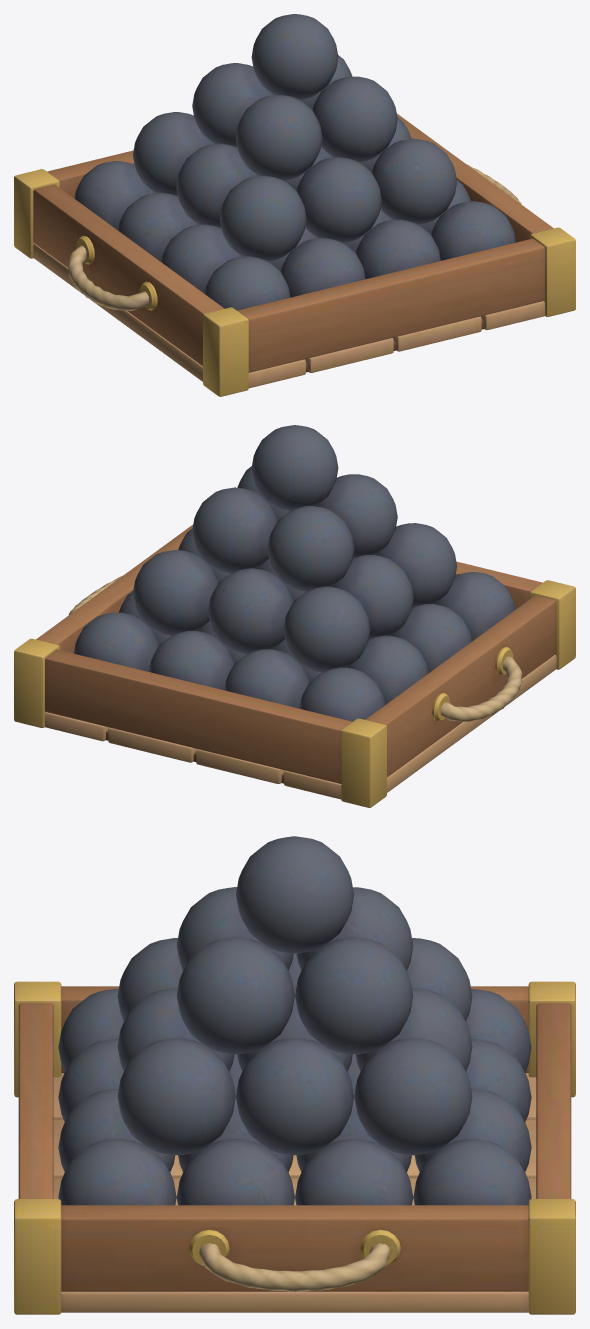
The model's file is balas_canon.glb.
3 views of the same model, one above another, from view 1: azimuth 30°, elevation 25°; view 2: azimuth 150°, elevation 25°; view 3: azimuth 270°, elevation 25° (orthographic). The views are drawn at different scales.
Parts seen in each view (by area): view 1: cannonball-pile_body; view 2: cannonball-pile_body; view 3: cannonball-pile_body.
Part boxes in pixels (x1,y1,x2,y2): cannonball-pile_body: (14, 14, 575, 396); cannonball-pile_body: (14, 425, 575, 807); cannonball-pile_body: (14, 836, 575, 1314).
Size of the model in its own units: 0.8494 by 0.5044 by 0.722.
1 material, 1 textured.
